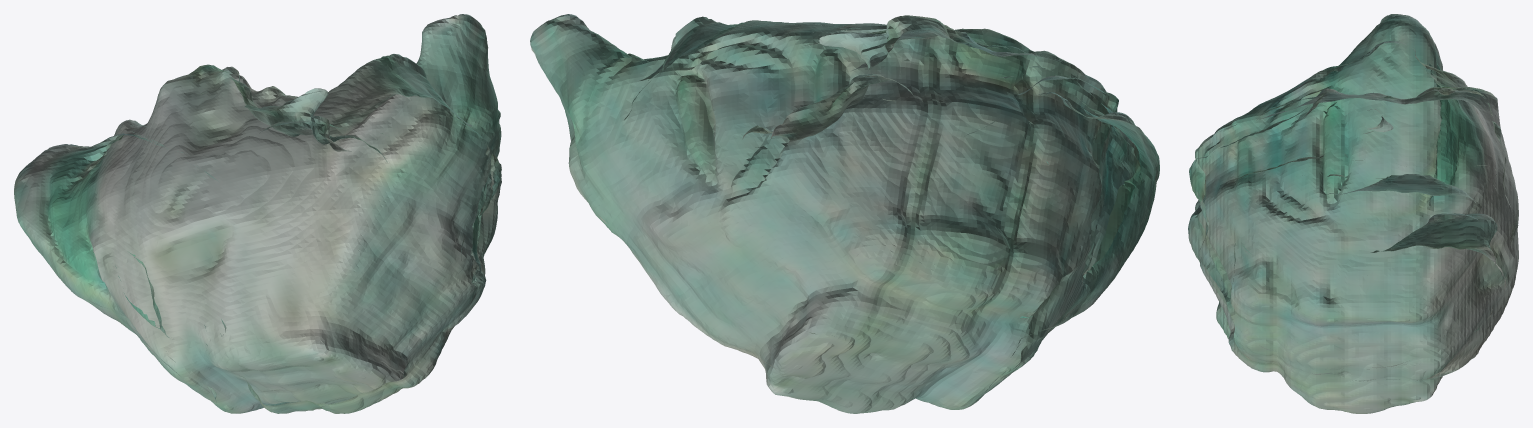
3 renders of one model, left to right at view 1: azimuth 30°, elevation 25°; view 2: azimuth 150°, elevation 25°; view 3: azimuth 270°, elevation 25°, orthographic. The views are drawn at different scales.
Visible parts, largest first — view 1: geometry_0; view 2: geometry_0; view 3: geometry_0.
Boxes of the visible parts, bbox=[...] form: geometry_0: bbox=[14, 14, 501, 413]; geometry_0: bbox=[530, 14, 1159, 413]; geometry_0: bbox=[1188, 14, 1518, 413].
Size of the model in its own units: 1.6 by 0.9371 by 1.02.
